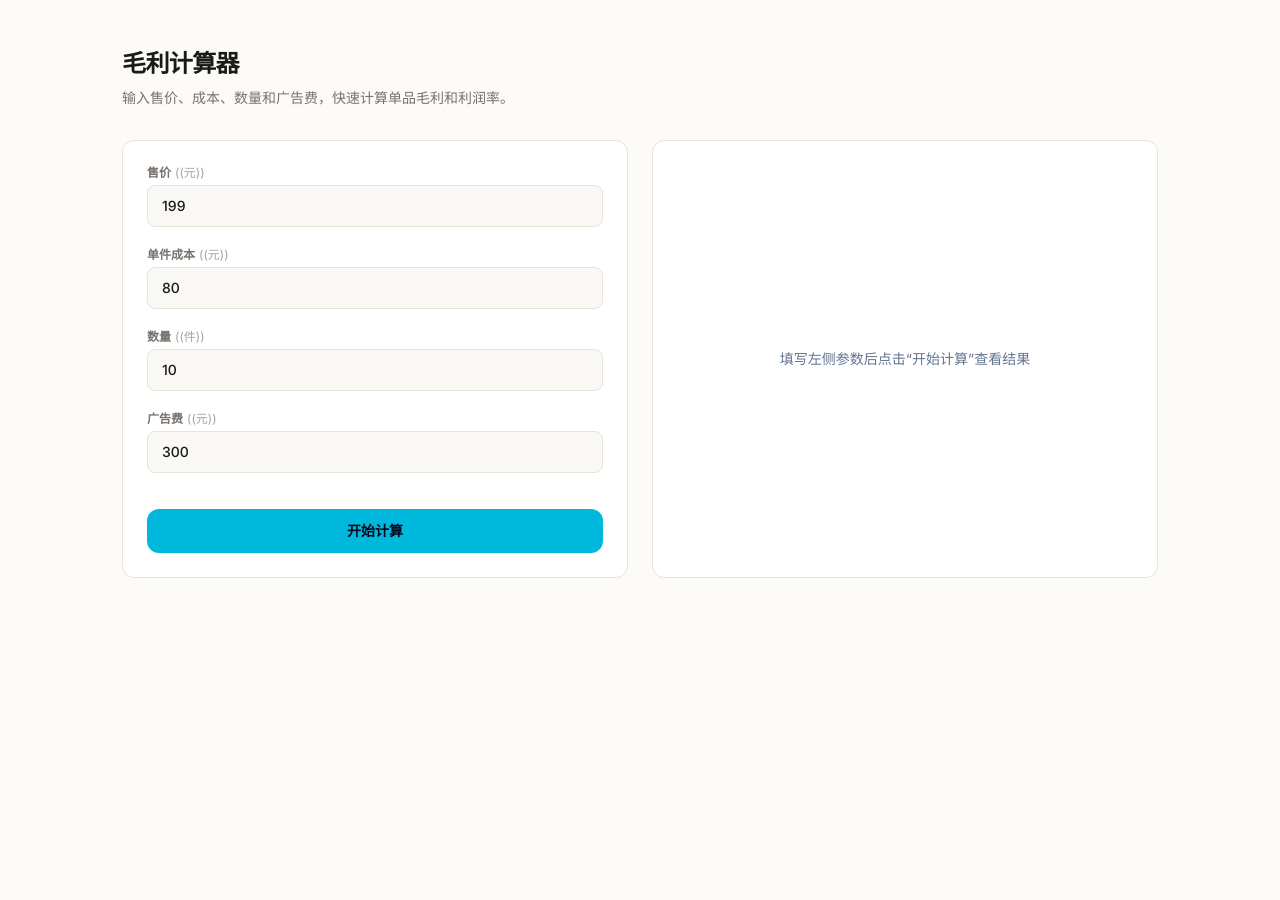
ProfitCalculatorPage › recalculates when inputs change and button is clicked
Change quantity to 20
Replace the text in the number field labelled "数量((件))" with "20" at [375, 370], box x1=147 y1=349 x2=603 y2=391
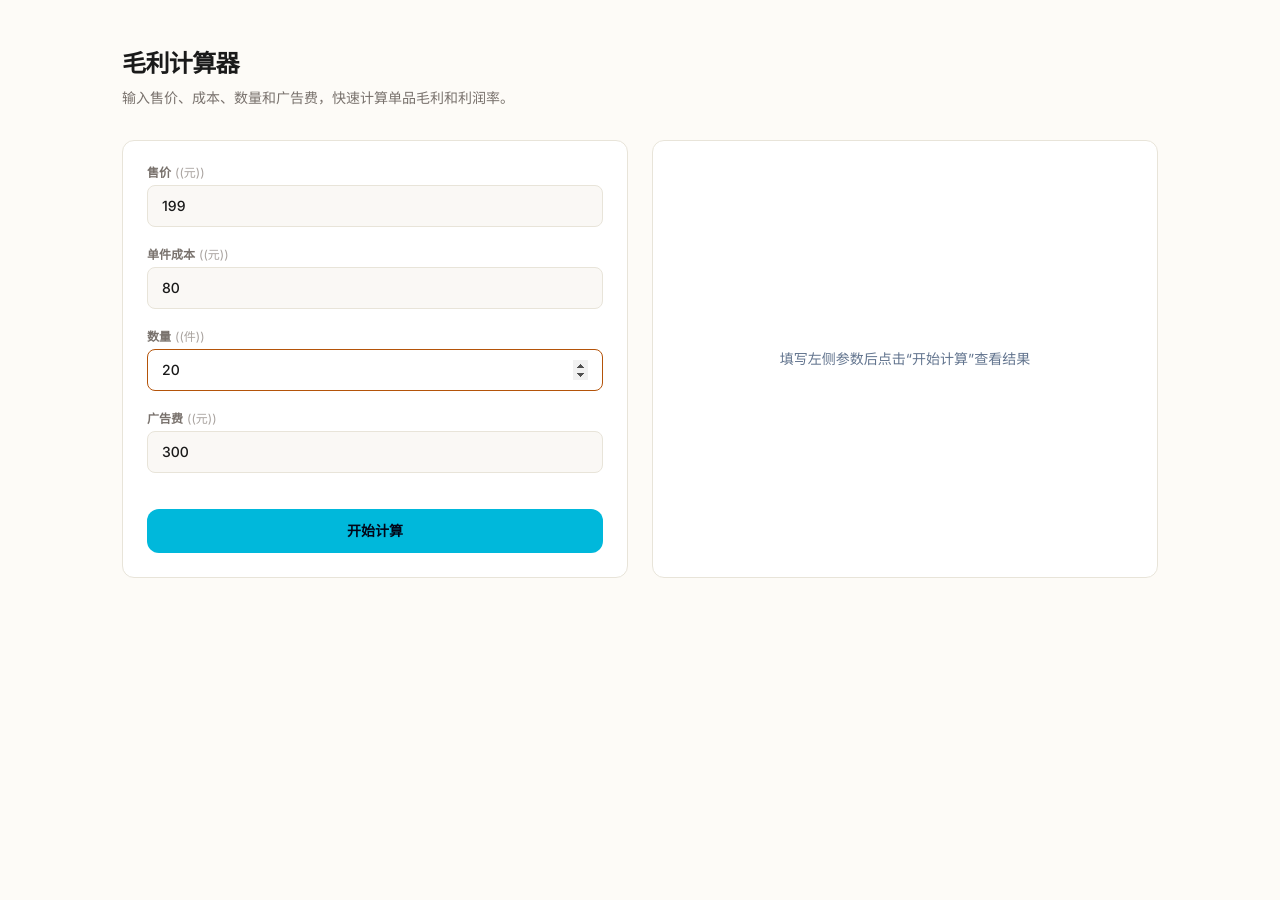
Click the button "开始计算" at [375, 531], box x1=147 y1=509 x2=603 y2=553
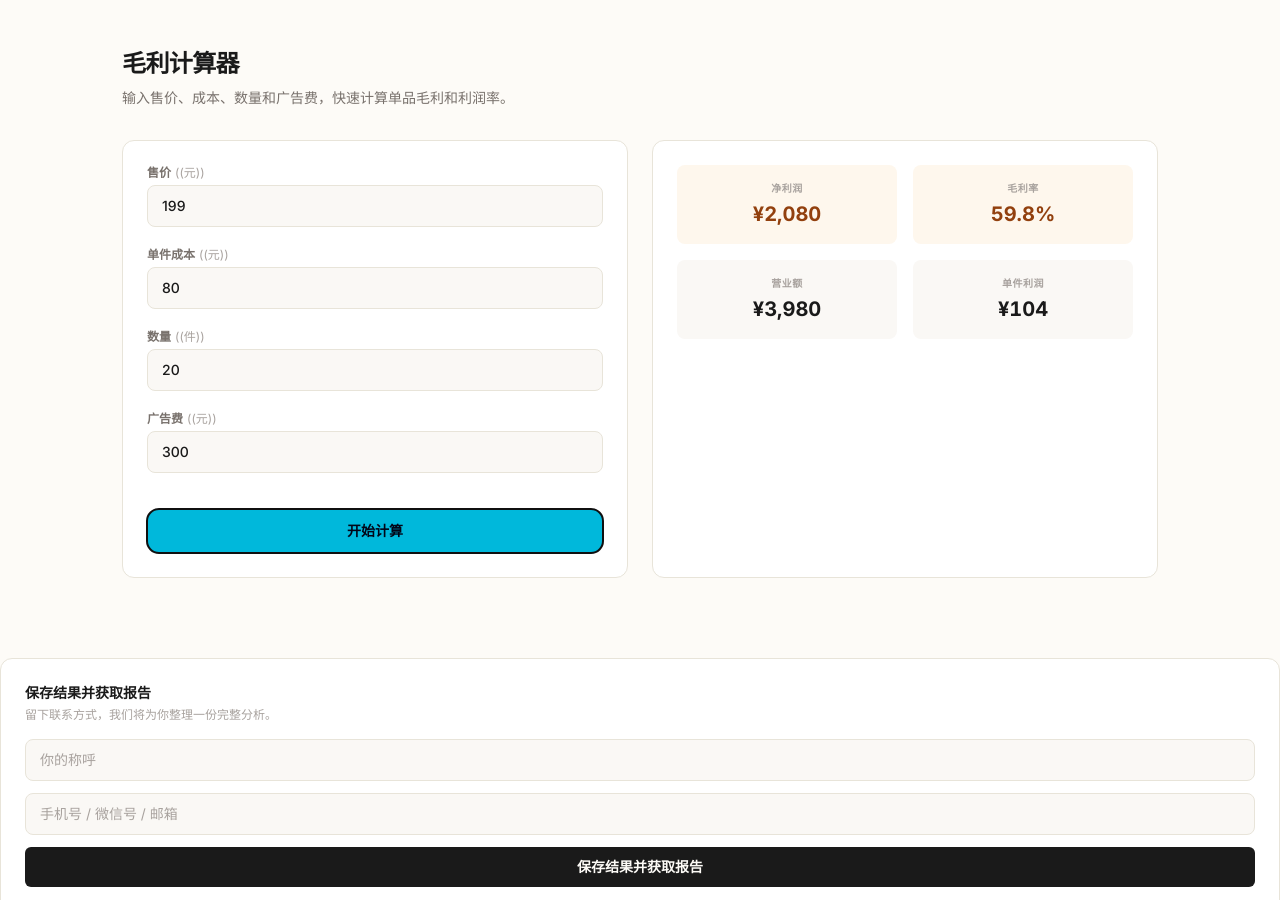
Check: the text "¥2,080" is shown, box x1=753 y1=202 x2=821 y2=226
